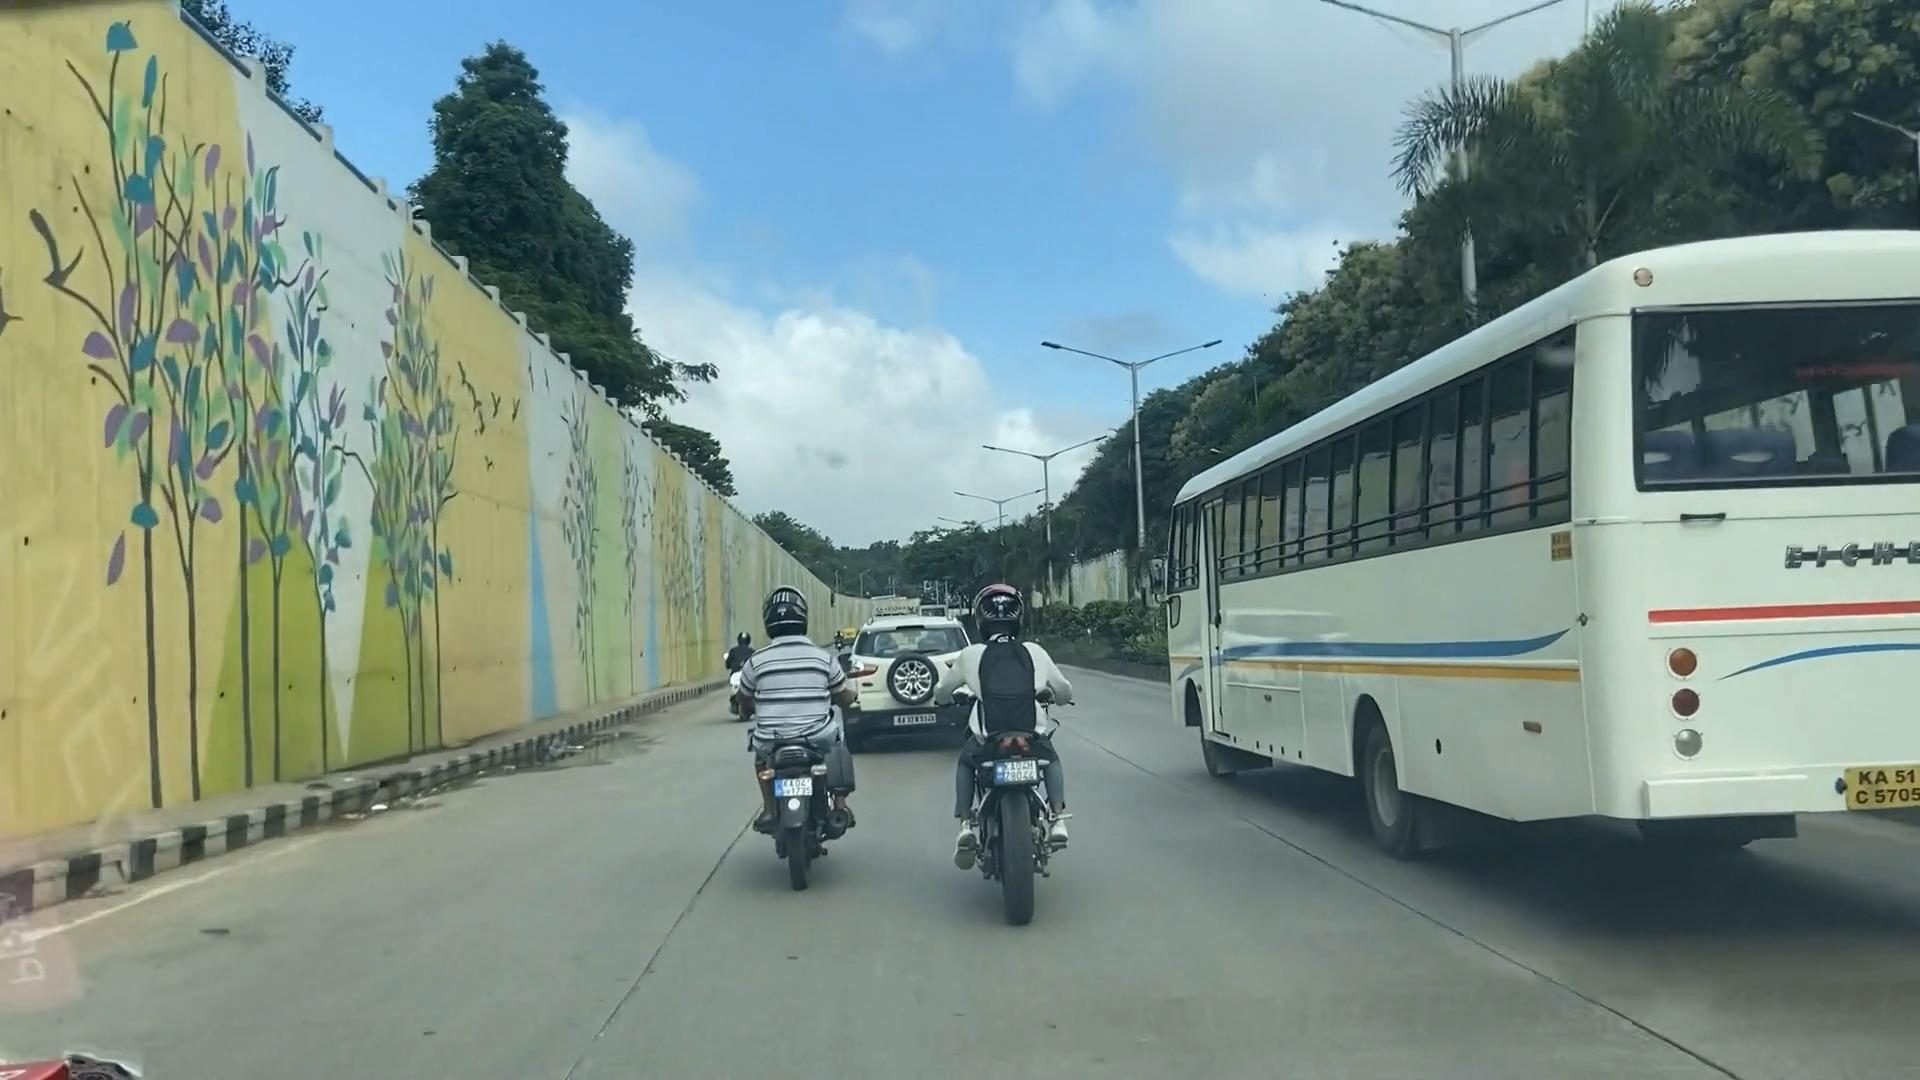HMV: (1178, 243, 1920, 840)
LMV: (948, 612, 1068, 909), (756, 615, 864, 857), (852, 621, 965, 741)
